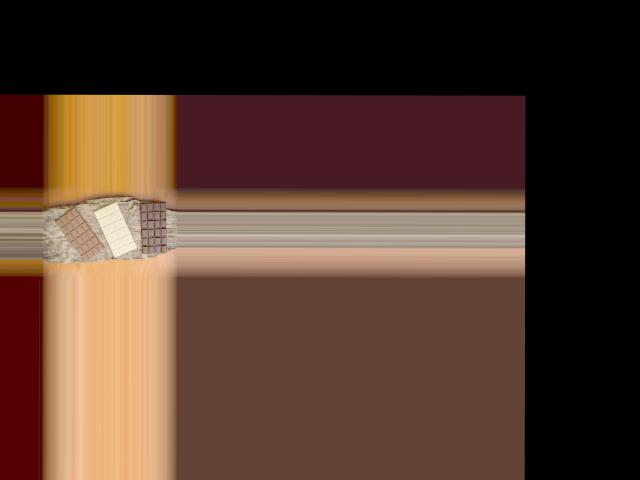chocolate: (140, 201, 167, 253)
